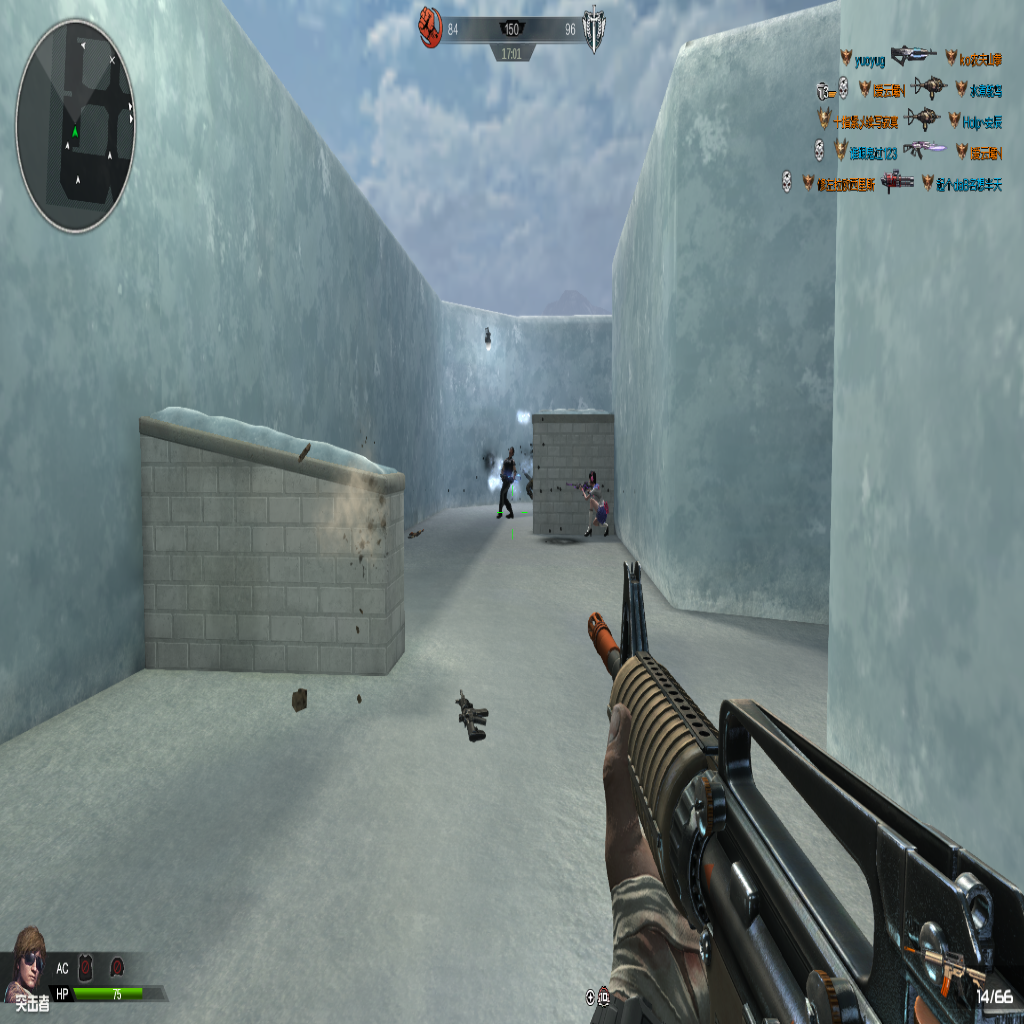ct: (495, 439, 519, 522)
